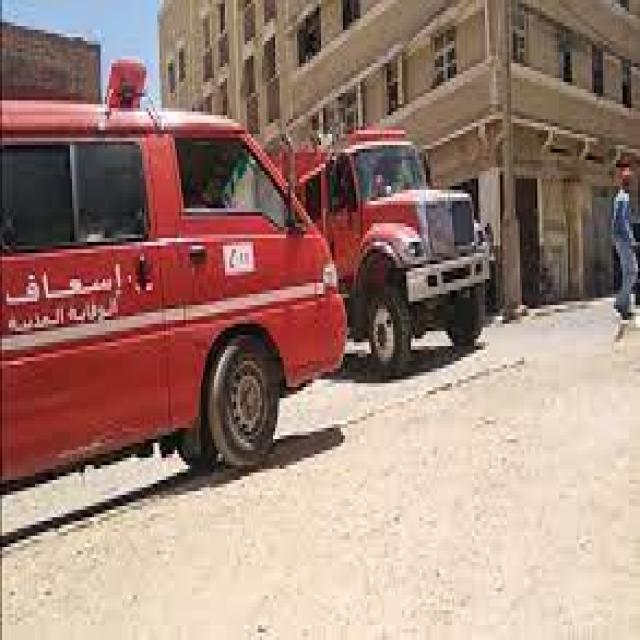ambulance: (2, 71, 344, 470)
pompier: (310, 120, 490, 370)
